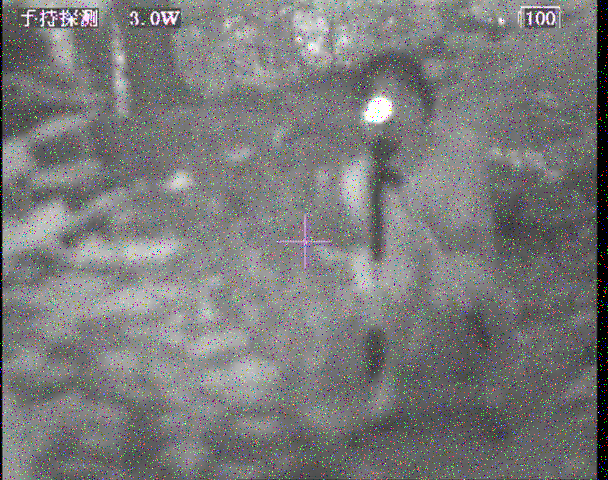my: (363, 96, 396, 123)
